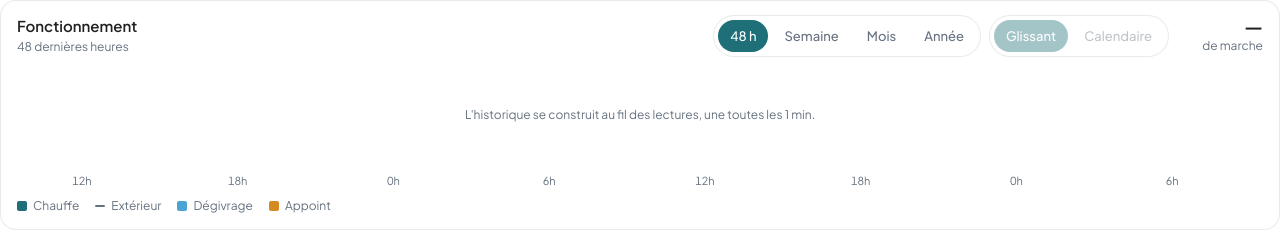
Test: HeatingHistoryChart › counts a day as 24 hours of which its share heated
The width and height of the screenshot is (1280, 247).
What coordinates should you click on to do the following:
click the tab with class "segmented__item" showing "Semaine"
I would click on:
 (812, 36)
Its box is [772,20,851,52].
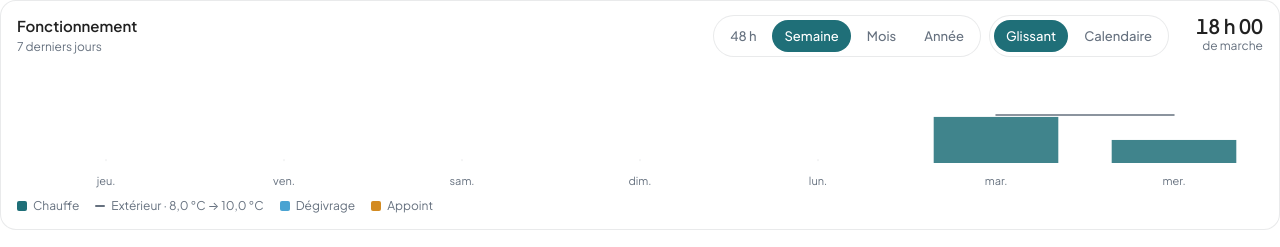
Check: the text with class "hist__value" reads "18 h 00", box [1196,13,1263,38]
